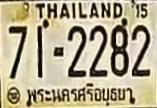1: (36, 24, 43, 77)
2: (88, 24, 109, 77), (67, 25, 87, 78), (131, 24, 150, 77)
7: (8, 25, 26, 77)
8: (110, 23, 128, 76)
AYA: (23, 82, 137, 106)
